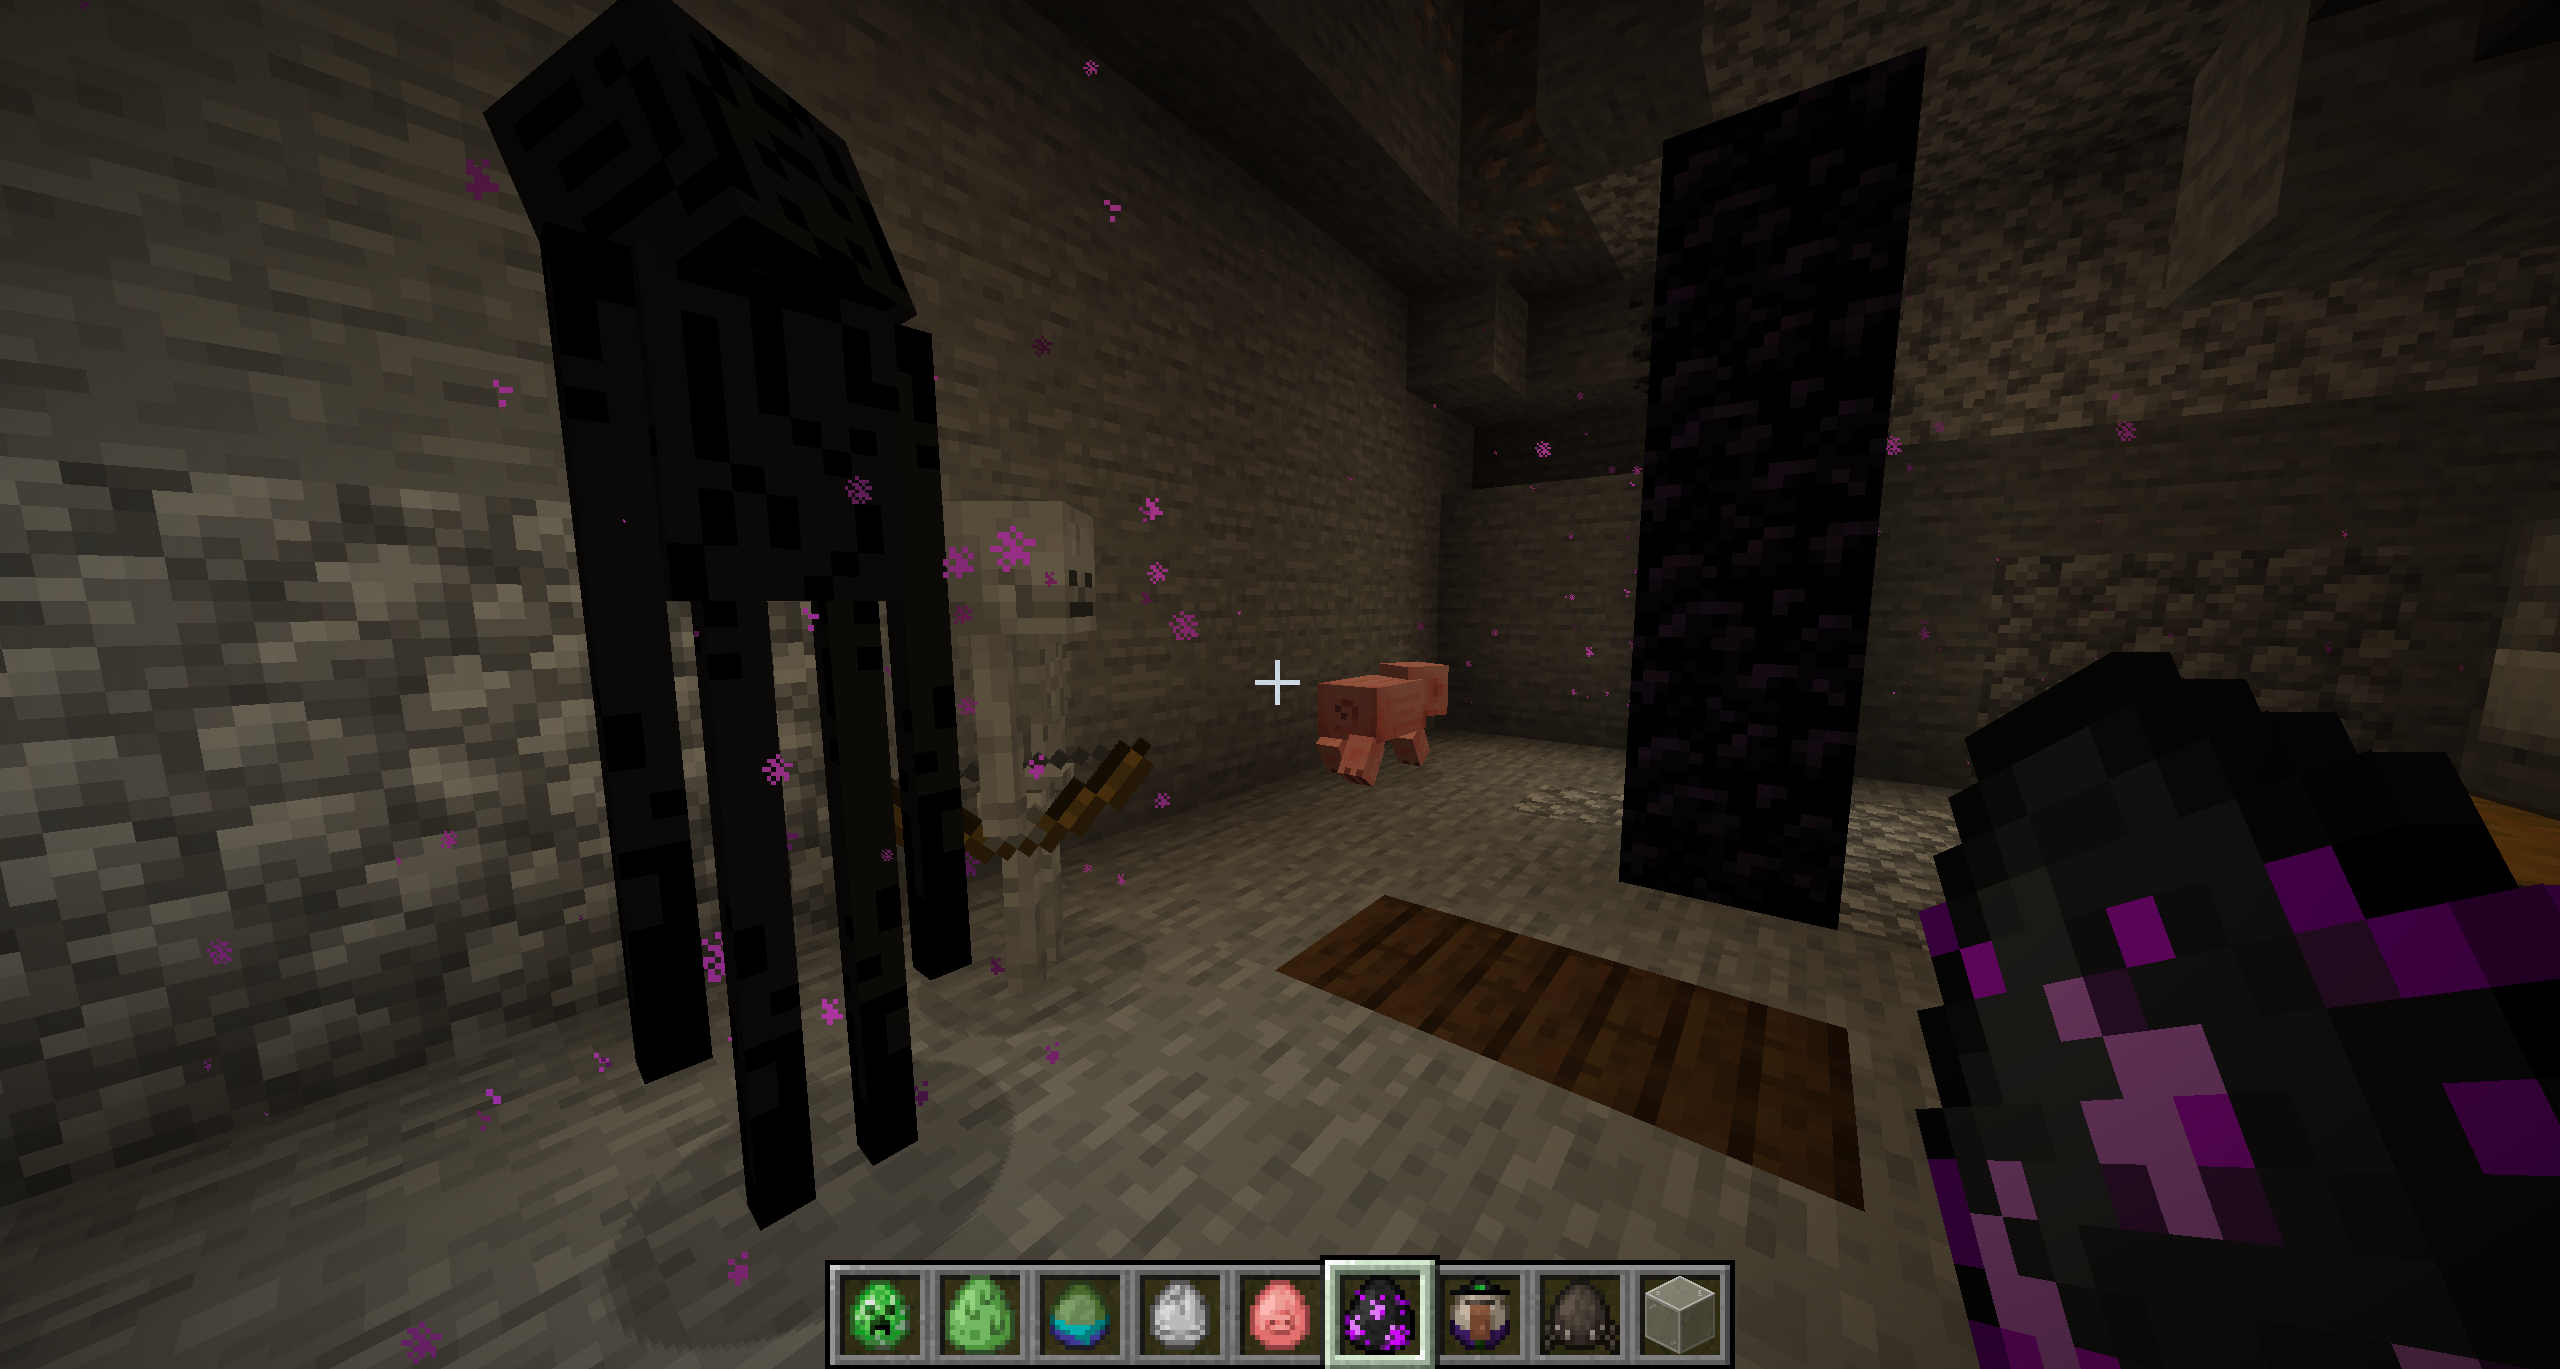cochons: (1294, 657, 1451, 773)
endermens: (481, 12, 967, 1179)
squelettes: (940, 503, 1095, 983)
